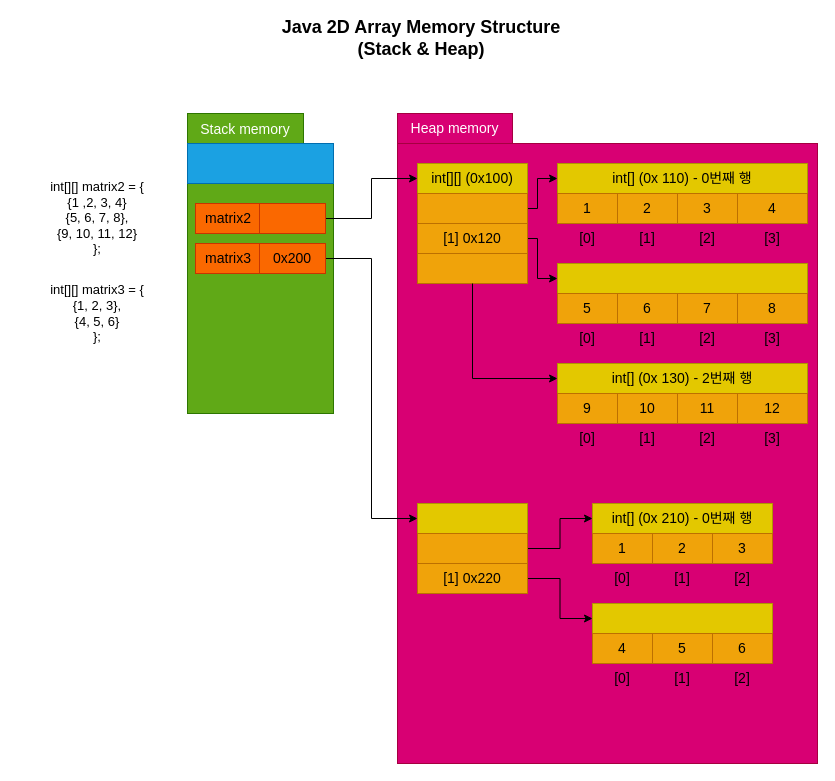
This 835x781 diagram has some shape labels left out. The centre of each missing label's shape, as x and y in pixels:
"0x100" belongs at pixel 292 218.
"[0] 0x110" belongs at pixel 472 208.
"[0] 0x210" belongs at pixel 472 548.
"[2] 0x130" belongs at pixel 472 268.
"int[] (0x 120) - 1번째 행" belongs at pixel 682 278.
"int[] (0x 220) - 1번째 행" belongs at pixel 682 618.
"int[][] (0x200)" belongs at pixel 472 518.
"main() 메서드 프레임" belongs at pixel 260 163.
